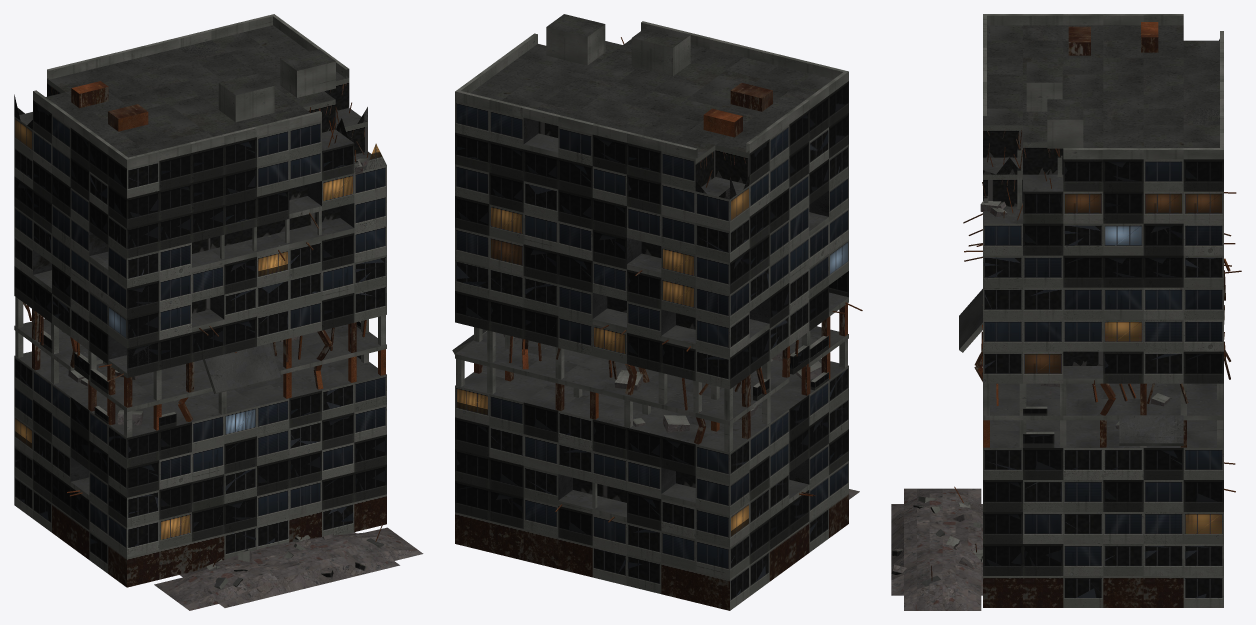
The model's file is Building_OfficeGutted.fbx.
The picture shows the model from 3 angles, left to right: view 1: azimuth 30°, elevation 25°; view 2: azimuth 150°, elevation 25°; view 3: azimuth 270°, elevation 25°; orthographic projection. The views are drawn at different scales.
Visible parts, largest first — view 1: Building_OfficeGutted; view 2: Building_OfficeGutted; view 3: Building_OfficeGutted.
Boxes of the visible parts, box(x1,y1,x2,y2) form: Building_OfficeGutted: box(14, 14, 423, 610); Building_OfficeGutted: box(452, 14, 862, 610); Building_OfficeGutted: box(891, 14, 1241, 610).
Size of the model in its own units: 114 by 166 by 109.
1 material, 1 textured.
